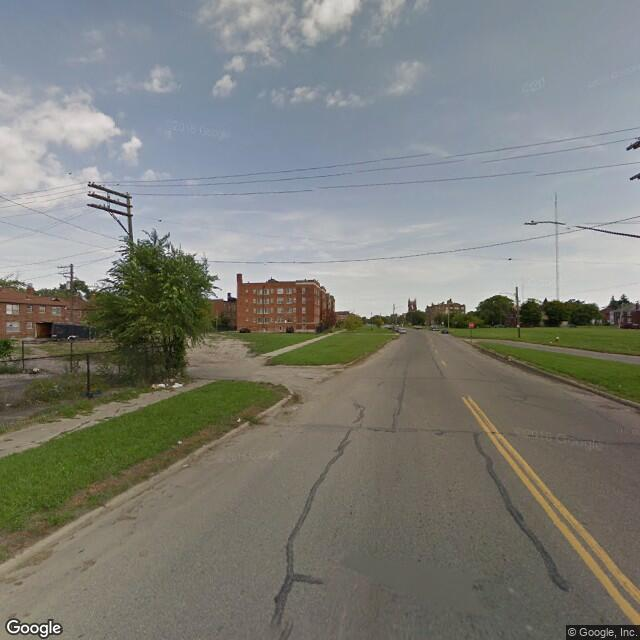litter: (151, 381, 166, 390), (170, 382, 184, 390), (175, 437, 185, 446), (234, 417, 243, 424)
